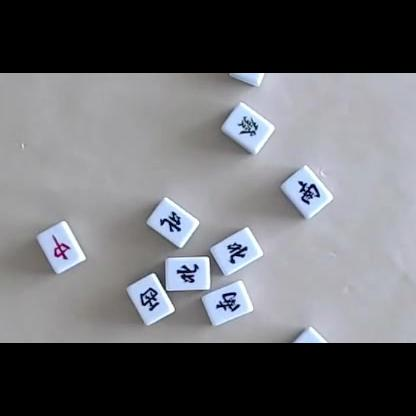2z: (296, 178, 321, 205), (215, 291, 241, 313)
3z: (139, 287, 160, 311)
4z: (159, 211, 184, 233), (226, 242, 248, 265), (176, 264, 200, 284)
6z: (237, 115, 259, 137), (297, 341, 319, 343)
7z: (50, 233, 70, 260)
